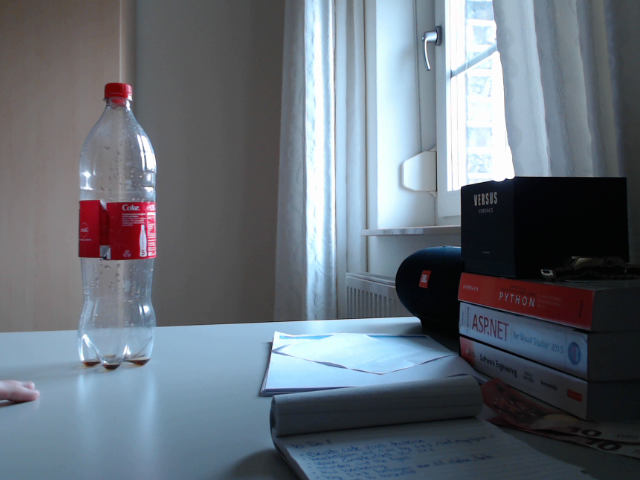bottle: (77, 82, 157, 370)
